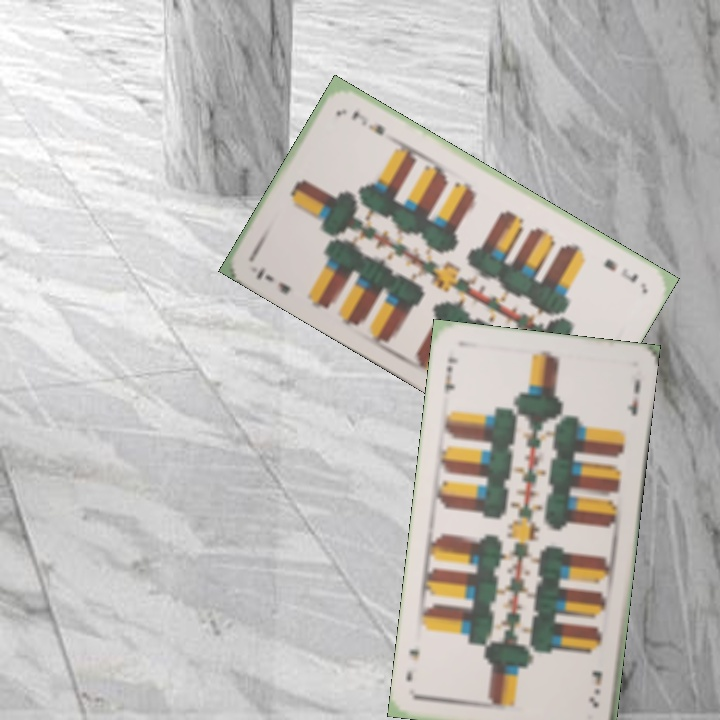E7: (252, 263, 293, 297), (599, 254, 641, 286), (585, 666, 605, 710), (440, 353, 460, 397)
